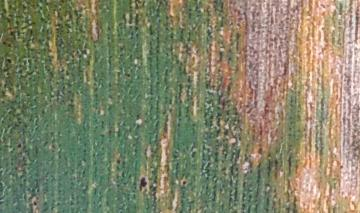tarspot: (137, 172, 148, 192), (189, 149, 200, 161), (4, 56, 15, 65), (180, 178, 188, 187), (15, 141, 24, 149), (114, 157, 122, 165), (337, 163, 345, 170), (32, 199, 38, 206)
